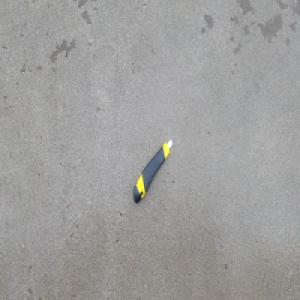Cutter: (132, 137, 174, 204)
